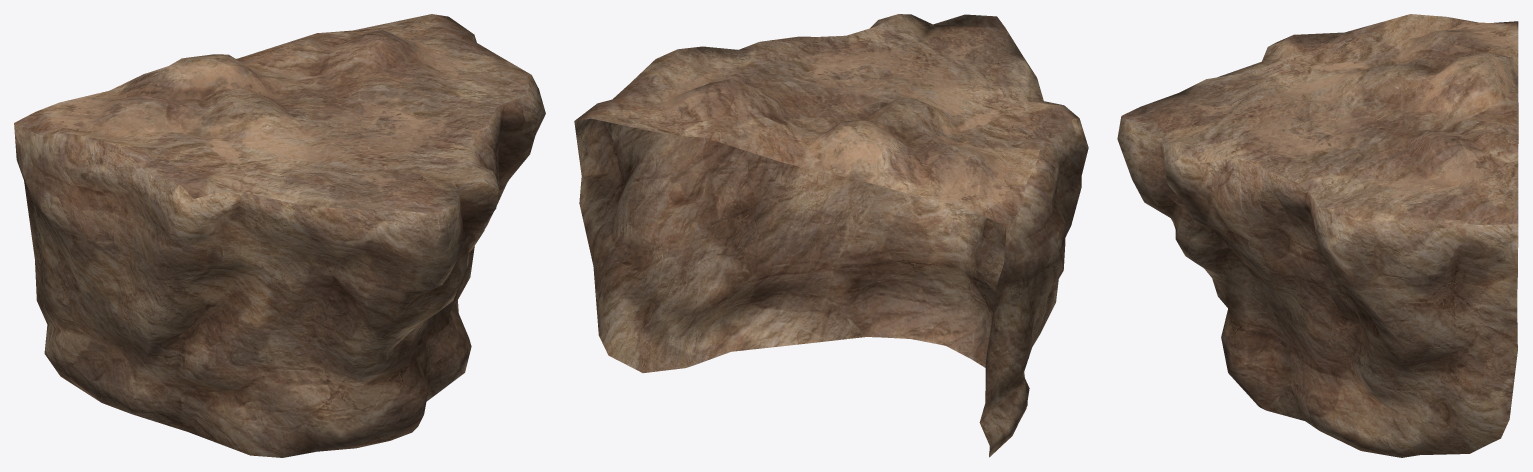
Rendered from canyon_ridge02.dae.
3 views of the same model, side by side, from view 1: azimuth 30°, elevation 25°; view 2: azimuth 150°, elevation 25°; view 3: azimuth 270°, elevation 25° (orthographic). The views are drawn at different scales.
Parts seen in each view (by area): view 1: Mesh; view 2: Mesh; view 3: Mesh.
Boxes of the visible parts, <box> form: Mesh: <box>14,14,545,457</box>; Mesh: <box>574,14,1088,457</box>; Mesh: <box>1117,14,1518,457</box>.
Size of the model in its own units: 25.32 by 16.85 by 20.29.
